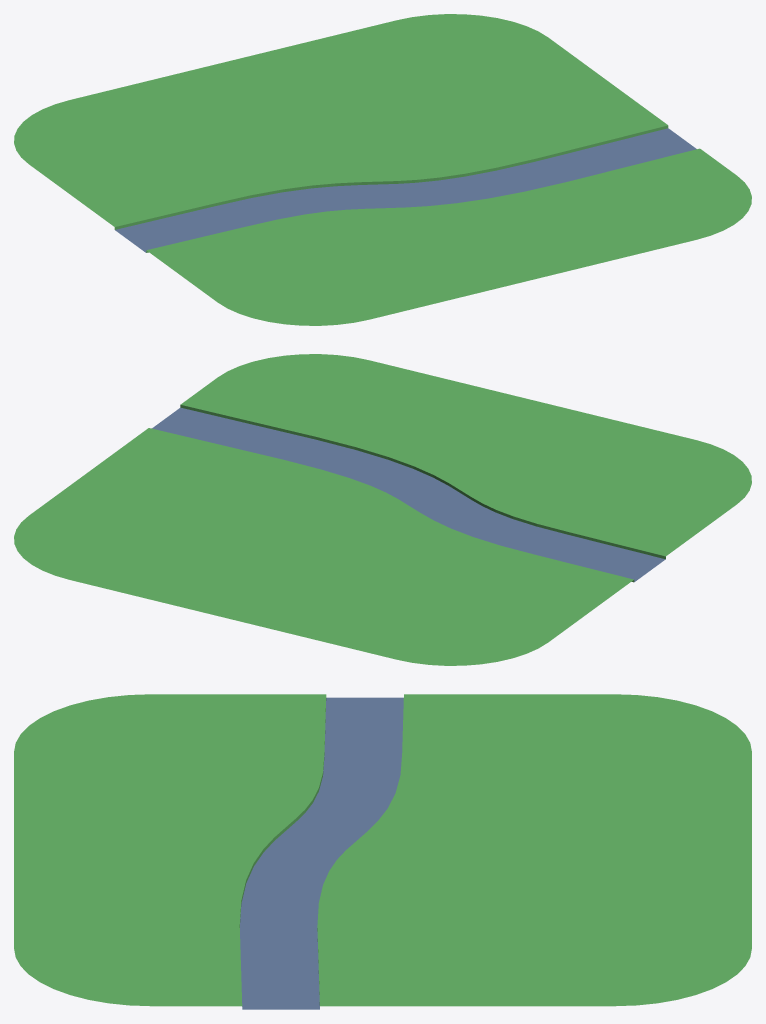
Rendered from EnvRiverForest.fbx.
3 renders of one model, top to bottom at view 1: azimuth 30°, elevation 25°; view 2: azimuth 150°, elevation 25°; view 3: azimuth 270°, elevation 25°, orthographic. The views are drawn at different scales.
Visible parts, largest first — view 1: GroundPlaneRiver; view 2: GroundPlaneRiver; view 3: GroundPlaneRiver.
Part boxes in pixels (x1,y1,x2,y2): GroundPlaneRiver: (14,14,751,325); GroundPlaneRiver: (14,354,751,665); GroundPlaneRiver: (14,694,751,1009).
Size of the model in its own units: 0.19 by 0.000996 by 0.19.
